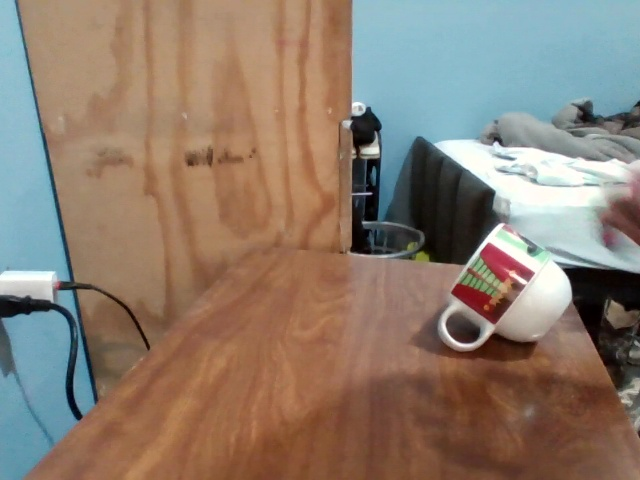taza: (435, 223, 573, 352)
